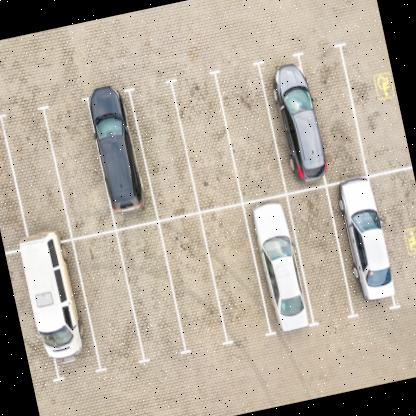Car: (242, 191, 319, 344), (330, 170, 405, 321), (80, 74, 153, 222), (19, 231, 92, 368), (263, 47, 333, 183)
Empty: (340, 33, 410, 167), (75, 230, 142, 366), (158, 215, 226, 346), (202, 206, 267, 337), (176, 70, 238, 204), (218, 66, 282, 194), (131, 82, 196, 208), (119, 222, 182, 352), (291, 190, 353, 322), (48, 98, 110, 228), (5, 109, 68, 236), (307, 50, 361, 174), (372, 168, 416, 303), (0, 112, 24, 239)
